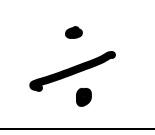div: (30, 23, 115, 106)
